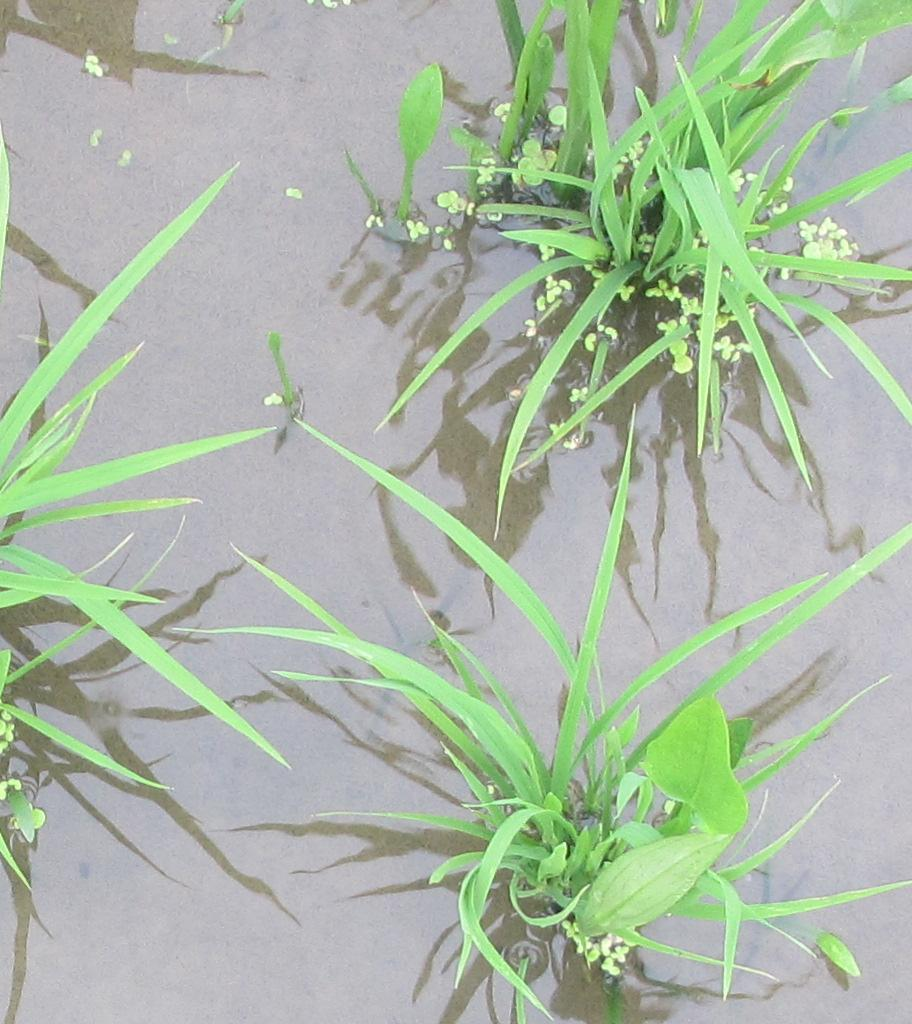Weed: (586, 699, 755, 947)
